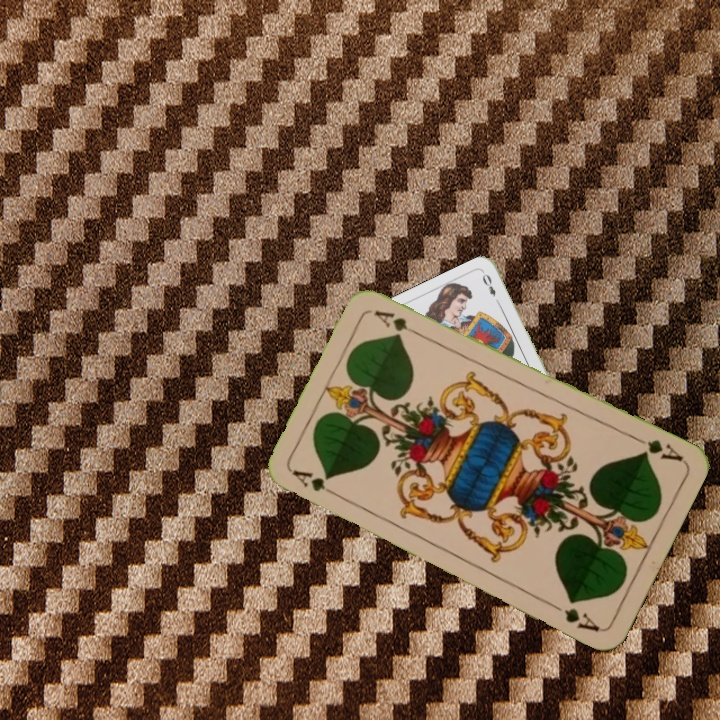GA: (289, 465, 344, 501), (630, 432, 686, 464)
